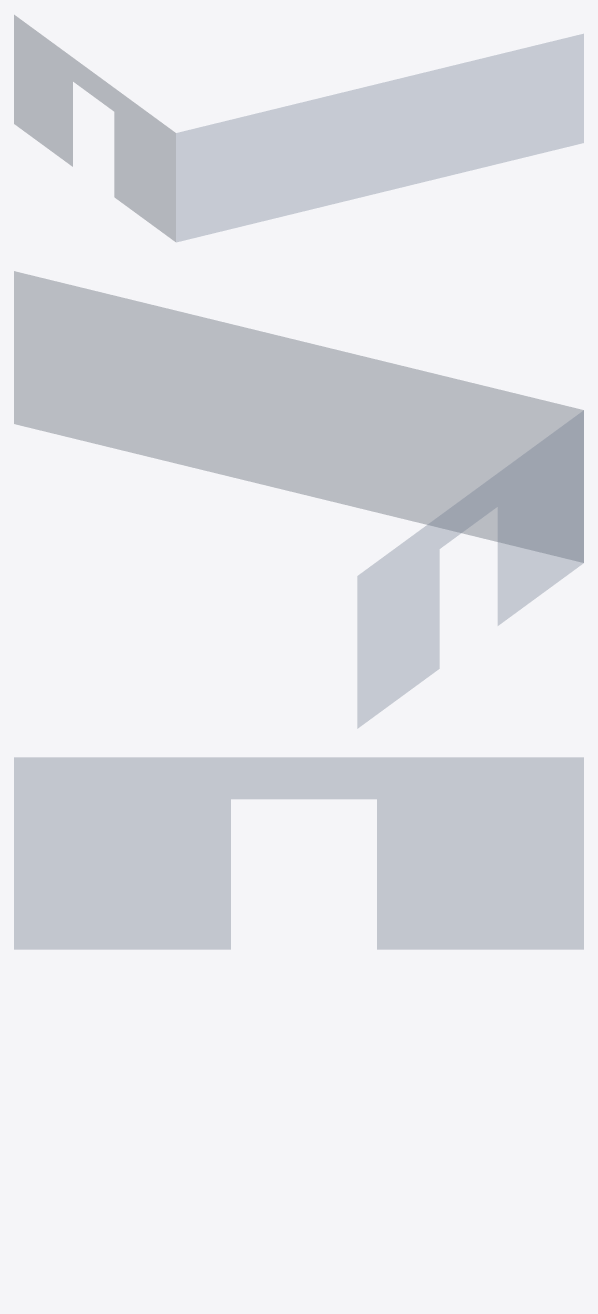
File: glass-wall.glb
3 views of the same model, one above another, from view 1: azimuth 30°, elevation 25°; view 2: azimuth 150°, elevation 25°; view 3: azimuth 270°, elevation 25° (orthographic). The views are drawn at different scales.
Visible parts, largest first — view 1: Plane.003; view 2: Plane.003; view 3: Plane.003.
Boxes of the visible parts, x1,y1,x2,y2 form: Plane.003: (14, 15, 583, 242); Plane.003: (14, 271, 583, 728); Plane.003: (14, 757, 583, 949).
Size of the model in its own units: 18.4 by 4.72 by 12.66.
